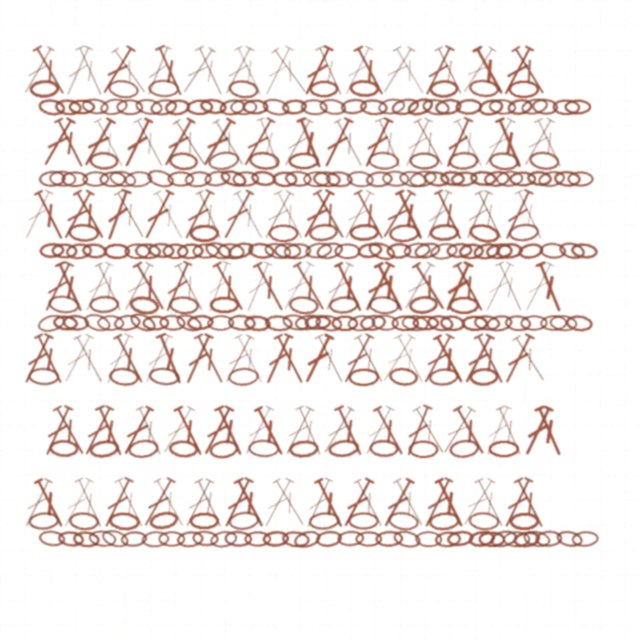chain: (467, 221, 501, 245), (127, 310, 158, 335), (207, 149, 240, 172), (366, 239, 397, 263), (148, 509, 180, 532), (107, 78, 140, 100), (227, 78, 260, 100), (387, 510, 420, 532), (174, 311, 204, 335), (145, 167, 176, 190), (128, 294, 160, 316), (88, 438, 120, 460), (208, 438, 240, 460), (47, 294, 80, 315), (127, 438, 160, 459), (327, 438, 360, 459), (405, 95, 435, 118), (218, 167, 248, 190), (203, 239, 233, 262), (226, 239, 256, 262), (82, 311, 112, 334), (100, 527, 130, 550), (36, 312, 67, 334), (468, 78, 500, 99), (248, 150, 280, 171), (528, 150, 560, 171), (508, 222, 540, 243), (108, 366, 140, 387), (148, 366, 180, 387), (448, 438, 480, 459), (228, 510, 260, 531), (261, 96, 291, 118), (292, 528, 322, 550), (392, 528, 422, 550), (308, 222, 339, 243), (408, 294, 439, 315), (388, 366, 419, 387), (488, 151, 520, 171), (388, 223, 420, 243), (168, 295, 200, 315), (368, 295, 400, 315), (28, 511, 60, 531), (68, 511, 100, 531), (108, 511, 140, 531), (308, 511, 340, 531), (428, 511, 460, 531), (468, 511, 500, 531), (99, 96, 129, 117), (390, 96, 420, 117), (408, 168, 438, 189), (557, 240, 587, 261), (168, 151, 199, 171), (288, 295, 319, 315), (328, 295, 359, 315), (428, 367, 459, 387), (168, 439, 199, 459), (288, 439, 319, 459), (520, 96, 549, 117), (315, 240, 344, 261), (413, 240, 442, 261), (281, 312, 310, 333), (489, 528, 518, 549), (134, 97, 164, 117), (421, 97, 451, 117), (398, 169, 428, 189), (429, 241, 459, 261), (148, 79, 179, 98), (368, 151, 399, 170), (448, 151, 479, 170), (68, 223, 99, 242), (28, 367, 59, 386), (228, 367, 259, 386), (248, 439, 279, 458), (37, 97, 66, 117), (149, 97, 178, 117), (218, 97, 247, 117), (318, 97, 347, 117), (108, 169, 137, 189), (422, 169, 451, 189), (537, 169, 566, 189), (263, 241, 292, 261), (472, 241, 501, 261), (314, 313, 343, 333), (426, 313, 455, 333), (485, 313, 514, 333), (209, 529, 238, 549), (512, 529, 541, 549), (522, 529, 551, 549), (555, 529, 584, 549), (29, 79, 59, 98), (349, 79, 379, 98), (429, 79, 459, 98), (89, 151, 119, 170), (349, 223, 379, 242), (429, 223, 459, 242), (89, 295, 119, 314), (469, 367, 499, 386), (49, 439, 79, 458), (369, 439, 399, 458), (477, 97, 505, 117), (517, 241, 545, 261), (508, 80, 539, 98), (288, 152, 319, 170), (268, 224, 299, 242), (448, 296, 479, 314), (348, 368, 379, 386), (408, 440, 439, 458), (488, 440, 519, 458), (348, 512, 379, 530), (377, 97, 406, 116), (203, 169, 232, 188), (304, 241, 333, 260), (88, 529, 117, 548), (467, 529, 496, 548), (309, 80, 339, 98), (409, 152, 439, 170), (189, 224, 219, 242), (209, 296, 239, 314), (189, 512, 219, 530), (509, 512, 539, 530), (81, 97, 109, 116), (199, 97, 227, 116), (340, 97, 368, 116), (434, 97, 462, 116), (506, 97, 534, 116), (483, 169, 511, 188), (247, 241, 275, 260), (356, 241, 384, 260), (403, 241, 431, 260), (113, 313, 141, 332), (294, 313, 322, 332), (359, 313, 387, 332), (38, 529, 66, 548), (315, 529, 343, 548), (446, 529, 474, 548), (359, 98, 388, 116), (488, 98, 517, 116), (124, 170, 153, 188), (312, 170, 341, 188), (283, 242, 312, 260), (264, 314, 293, 332), (347, 314, 376, 332), (549, 314, 578, 332), (141, 530, 170, 548), (281, 530, 310, 548), (250, 169, 277, 188), (54, 98, 82, 116), (300, 98, 328, 116), (184, 170, 212, 188), (325, 170, 353, 188), (346, 170, 374, 188), (365, 170, 393, 188), (450, 170, 478, 188), (65, 242, 93, 260), (134, 242, 162, 260), (176, 242, 204, 260), (217, 242, 245, 260), (485, 242, 513, 260), (570, 242, 598, 260), (243, 314, 271, 332), (401, 314, 429, 332), (473, 314, 501, 332), (504, 314, 532, 332), (565, 314, 593, 332), (57, 530, 85, 548), (72, 530, 100, 548), (120, 530, 148, 548), (176, 530, 204, 548), (434, 530, 462, 548), (571, 530, 599, 548), (227, 314, 256, 331), (164, 98, 191, 116), (281, 98, 308, 116), (81, 242, 108, 260), (458, 242, 485, 260), (52, 314, 79, 332), (439, 314, 466, 332), (531, 98, 559, 115), (38, 170, 66, 187), (284, 170, 312, 187), (469, 170, 497, 187), (553, 170, 581, 187), (495, 242, 523, 259), (539, 242, 567, 259), (62, 314, 90, 331), (186, 314, 214, 331), (371, 314, 399, 331), (224, 530, 252, 547), (375, 530, 403, 547), (455, 98, 482, 115), (49, 170, 76, 187), (382, 170, 409, 187), (439, 170, 466, 187), (496, 170, 523, 187), (526, 170, 553, 187), (148, 242, 175, 259), (274, 242, 301, 259), (446, 242, 473, 259), (159, 314, 186, 331), (304, 314, 331, 331), (192, 530, 219, 547), (262, 530, 289, 547), (337, 530, 364, 547), (535, 530, 562, 547), (552, 99, 580, 115), (303, 171, 331, 187), (391, 315, 419, 331), (520, 315, 548, 331), (39, 242, 65, 259), (386, 242, 412, 259), (68, 99, 95, 115), (116, 99, 143, 115), (186, 99, 213, 115), (230, 99, 257, 115), (242, 99, 269, 115), (564, 99, 591, 115), (61, 171, 88, 187), (82, 171, 109, 187), (99, 171, 126, 187), (167, 171, 194, 187), (232, 171, 259, 187), (509, 171, 536, 187), (567, 171, 594, 187), (51, 243, 78, 259), (103, 243, 130, 259), (124, 243, 151, 259), (162, 243, 189, 259), (192, 243, 219, 259), (334, 243, 361, 259), (97, 315, 124, 331), (142, 315, 169, 331), (207, 315, 234, 331), (331, 315, 358, 331), (412, 315, 439, 331), (461, 315, 488, 331), (540, 315, 567, 331), (158, 531, 185, 547), (244, 531, 271, 547), (355, 531, 382, 547), (415, 531, 442, 547), (478, 531, 505, 547), (503, 531, 530, 547), (272, 171, 298, 187)
double: (267, 44, 313, 98), (107, 44, 152, 98), (456, 43, 500, 98), (168, 115, 212, 170), (508, 331, 552, 386), (176, 44, 220, 98), (96, 43, 139, 98), (376, 43, 419, 98), (508, 43, 551, 98), (196, 115, 239, 170), (208, 115, 251, 170), (376, 187, 419, 242), (408, 259, 451, 314), (376, 331, 419, 386), (156, 403, 199, 458), (408, 403, 451, 458), (436, 403, 479, 458), (268, 475, 311, 530), (456, 475, 499, 530), (17, 43, 59, 98), (29, 43, 71, 98), (389, 43, 431, 98), (37, 115, 79, 170), (77, 115, 119, 170), (157, 115, 199, 170), (237, 115, 279, 170), (477, 115, 519, 170), (517, 115, 559, 170), (69, 187, 111, 242), (109, 187, 151, 242), (309, 187, 351, 242), (129, 259, 171, 314), (289, 259, 331, 314), (397, 259, 439, 314), (49, 403, 91, 458), (317, 403, 359, 458), (449, 403, 491, 458), (137, 475, 179, 530), (149, 475, 191, 530), (497, 43, 538, 99), (89, 115, 130, 171), (129, 115, 170, 171), (277, 115, 318, 171), (329, 115, 370, 171), (449, 115, 490, 171), (57, 187, 98, 243), (149, 187, 190, 243), (217, 187, 258, 243), (229, 187, 270, 243), (257, 187, 298, 243), (337, 187, 378, 243), (117, 259, 158, 315), (249, 259, 290, 315), (449, 259, 490, 315), (57, 331, 98, 387), (69, 331, 110, 387), (109, 331, 150, 387), (337, 331, 378, 387), (349, 331, 390, 387), (417, 331, 458, 387), (429, 331, 470, 387), (117, 403, 158, 459), (197, 403, 238, 459), (369, 403, 410, 459), (57, 475, 98, 531), (257, 475, 298, 531), (337, 475, 378, 531), (349, 475, 390, 531), (377, 475, 418, 531), (469, 43, 510, 98), (409, 115, 450, 170), (297, 187, 338, 242), (209, 259, 250, 314), (277, 259, 318, 314), (389, 475, 430, 530), (218, 43, 258, 99), (350, 43, 390, 99), (418, 43, 458, 99), (50, 115, 90, 171), (30, 187, 70, 243), (138, 187, 178, 243), (178, 187, 218, 243), (270, 187, 310, 243), (350, 187, 390, 243), (170, 259, 210, 315), (318, 259, 358, 315), (358, 259, 398, 315), (370, 259, 410, 315), (478, 259, 518, 315), (518, 259, 558, 315), (190, 331, 230, 387), (218, 331, 258, 387), (230, 331, 270, 387), (270, 331, 310, 387), (298, 331, 338, 387), (310, 331, 350, 387), (390, 331, 430, 387), (458, 331, 498, 387), (470, 331, 510, 387), (498, 331, 538, 387), (78, 403, 118, 459), (238, 403, 278, 459), (250, 403, 290, 459), (278, 403, 318, 459), (358, 403, 398, 459), (30, 475, 70, 531), (110, 475, 150, 531), (178, 475, 218, 531), (230, 475, 270, 531), (310, 475, 350, 531), (430, 475, 470, 531), (470, 475, 510, 531), (510, 475, 550, 531), (230, 43, 269, 99), (258, 43, 297, 99), (298, 43, 337, 99), (338, 43, 377, 99), (430, 43, 469, 99), (118, 115, 157, 171), (318, 115, 357, 171), (358, 115, 397, 171), (398, 115, 437, 171), (530, 115, 569, 171), (18, 187, 57, 243), (430, 187, 469, 243), (470, 187, 509, 243), (498, 187, 537, 243), (510, 187, 549, 243), (38, 259, 77, 315), (78, 259, 117, 315), (90, 259, 129, 315), (330, 259, 369, 315), (18, 331, 57, 387), (30, 331, 69, 387), (138, 331, 177, 387), (38, 403, 77, 459), (170, 403, 209, 459), (210, 403, 249, 459), (330, 403, 369, 459), (518, 403, 557, 459), (18, 475, 57, 531), (70, 475, 109, 531), (98, 475, 137, 531), (190, 475, 229, 531), (218, 475, 257, 531), (418, 475, 457, 531), (498, 475, 537, 531), (59, 43, 97, 99), (71, 43, 109, 99), (151, 43, 189, 99), (191, 43, 229, 99), (311, 43, 349, 99), (439, 115, 477, 171), (191, 187, 229, 243), (391, 187, 429, 243), (419, 187, 457, 243), (459, 187, 497, 243), (51, 259, 89, 315), (439, 259, 477, 315), (491, 259, 529, 315), (99, 331, 137, 387), (179, 331, 217, 387), (259, 331, 297, 387), (91, 403, 129, 459), (131, 403, 169, 459), (491, 403, 529, 459), (299, 475, 337, 531), (371, 115, 408, 171), (491, 115, 528, 171), (159, 259, 196, 315), (239, 259, 276, 315), (291, 403, 328, 459), (479, 403, 516, 459), (531, 403, 568, 459), (140, 43, 176, 99), (292, 115, 328, 171), (532, 259, 568, 315), (152, 331, 188, 387), (400, 403, 436, 459), (252, 115, 287, 171), (100, 187, 135, 243), (201, 259, 235, 315)
